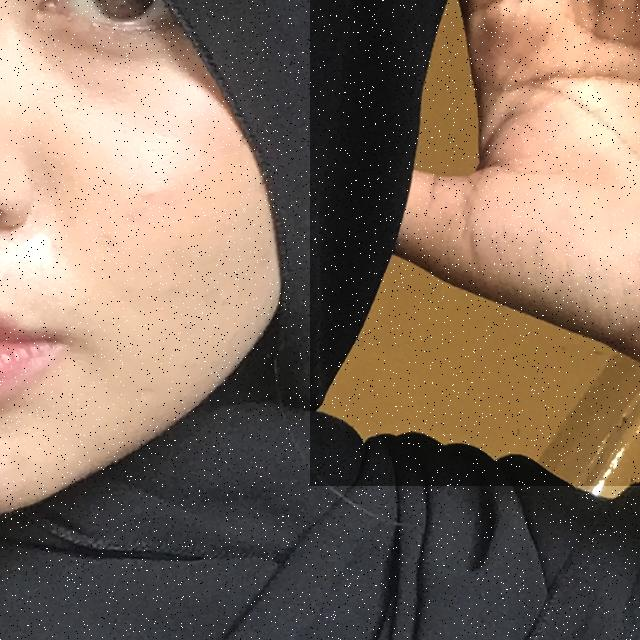mendengar: (310, 0, 640, 486)
